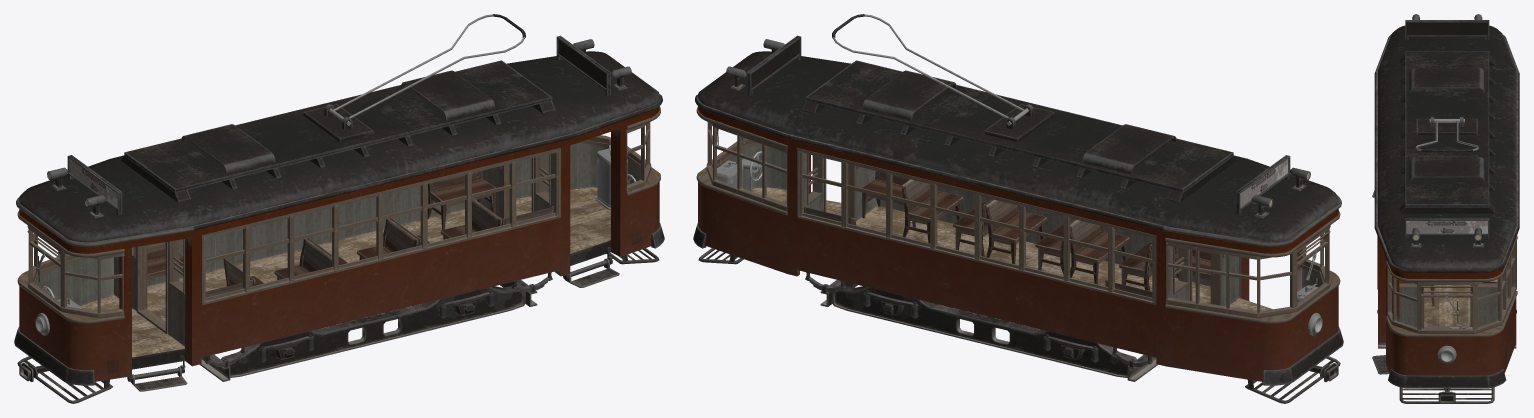
Rendered from SM_CrossroadsTram.glb.
3 views of the same model, side by side, from view 1: azimuth 30°, elevation 25°; view 2: azimuth 150°, elevation 25°; view 3: azimuth 270°, elevation 25° (orthographic). The views are drawn at different scales.
Visible parts, largest first — view 1: SM_CrossroadsTram; view 2: SM_CrossroadsTram; view 3: SM_CrossroadsTram.
Part boxes in pixels (x1,y1,x2,y2): SM_CrossroadsTram: (14, 14, 664, 403); SM_CrossroadsTram: (693, 14, 1343, 403); SM_CrossroadsTram: (1372, 14, 1519, 403).
Size of the model in its own units: 10.39 by 4.06 by 2.53.
1 material, 1 textured.
